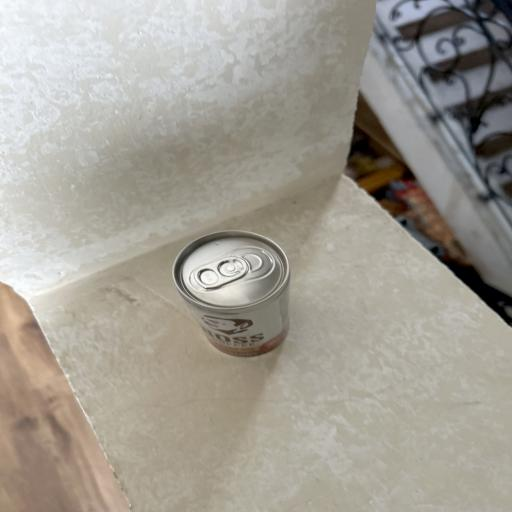boss_coffee: (168, 230, 296, 365)
